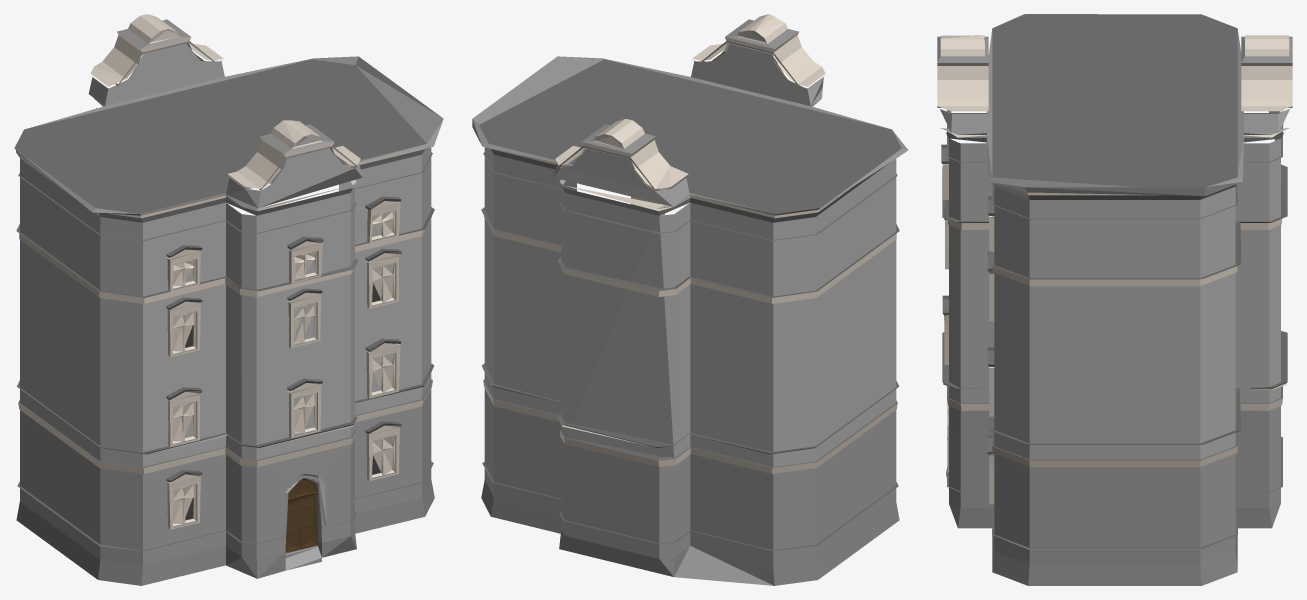
File: town4.glb
3 renders of one model, left to right at view 1: azimuth 30°, elevation 25°; view 2: azimuth 150°, elevation 25°; view 3: azimuth 270°, elevation 25°, orthographic. The views are drawn at different scales.
Visible parts, largest first — view 1: Building4; view 2: Building4; view 3: Building4.
Part boxes in pixels (bbox=[...]): Building4: bbox=[14, 14, 443, 585]; Building4: bbox=[472, 14, 908, 585]; Building4: bbox=[937, 14, 1292, 585].
Bounding box in the file's own units: 4.64 × 5.49 × 3.83.
